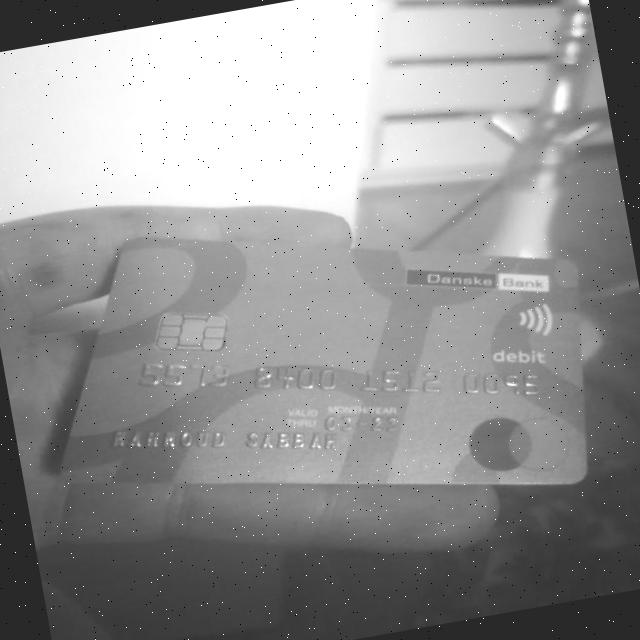card: (59, 237, 587, 487)
